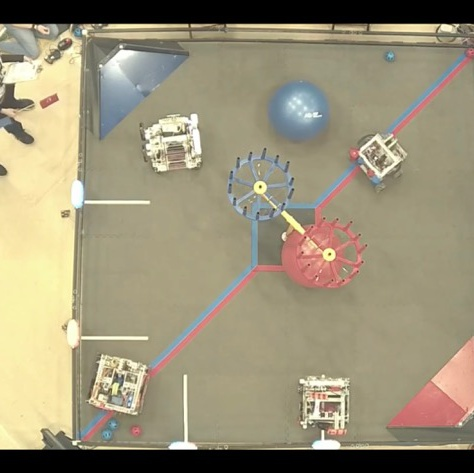blueball: (382, 48, 397, 64), (103, 418, 121, 431), (98, 427, 113, 442)
redball: (127, 422, 144, 438), (465, 46, 473, 57)
robot: (85, 350, 153, 423), (136, 111, 208, 176), (346, 127, 412, 195), (296, 371, 354, 437)
yogaball: (266, 80, 333, 145)
